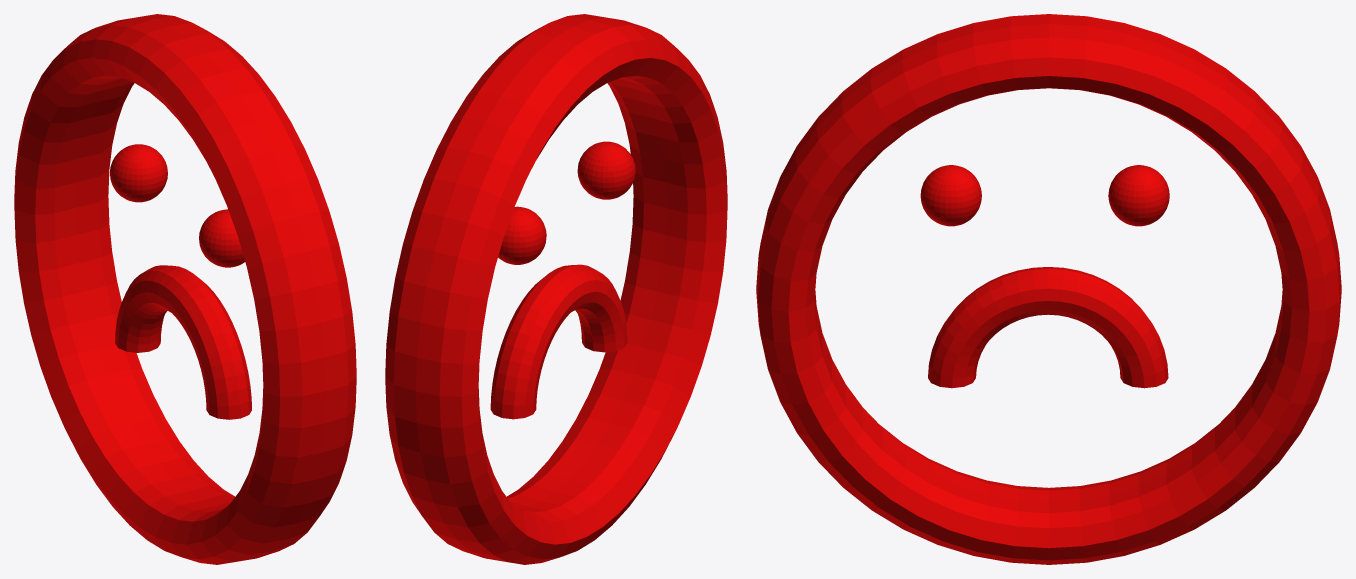
Rendered from smileyRed.dae.
3 renders of one model, left to right at view 1: azimuth 30°, elevation 25°; view 2: azimuth 150°, elevation 25°; view 3: azimuth 270°, elevation 25°, orthographic. The views are drawn at different scales.
Parts seen in each view (by area): view 1: Torus_001, Torus_002, Sphere, Sphere_001; view 2: Torus_001, Torus_002, Sphere_001, Sphere; view 3: Torus_001, Torus_002, Sphere_001, Sphere.
Part boxes in pixels (box(x1,y1,x2,y2)): Torus_001: box(14, 14, 356, 564); Torus_002: box(115, 265, 251, 419); Sphere: box(110, 144, 167, 202); Sphere_001: box(199, 209, 244, 267); Torus_001: box(385, 14, 727, 564); Torus_002: box(490, 264, 627, 419); Sphere_001: box(577, 141, 635, 199); Sphere: box(498, 206, 546, 264); Torus_001: box(756, 14, 1341, 564); Torus_002: box(928, 267, 1168, 388); Sphere_001: box(920, 165, 981, 226); Sphere: box(1108, 165, 1169, 226).
Bounding box in the file's own units: 0.548 × 2.86 × 2.86.
